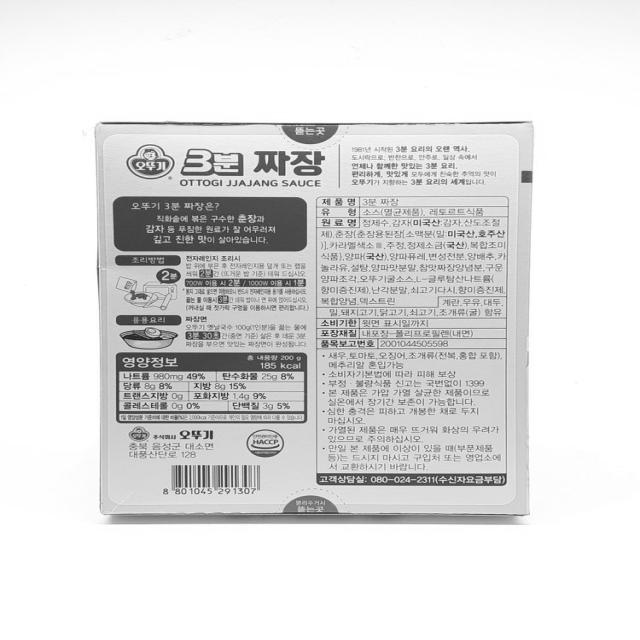Nutrition Label: (109, 347, 325, 430)
